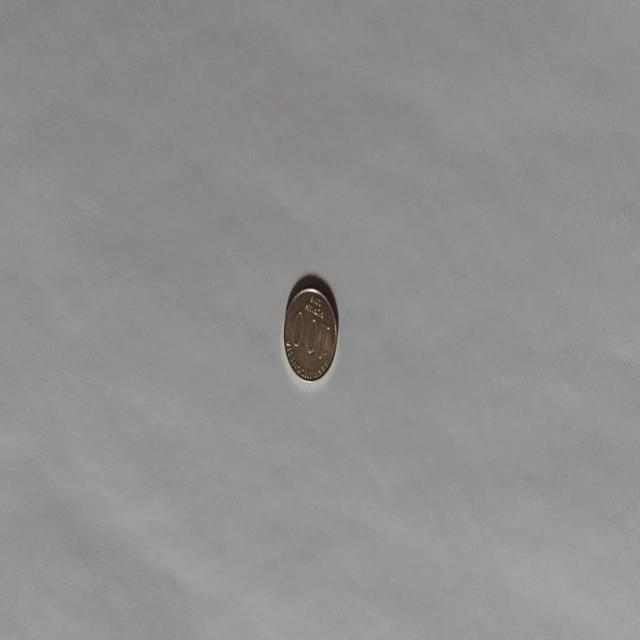seratus rupiah: (282, 284, 338, 384)
